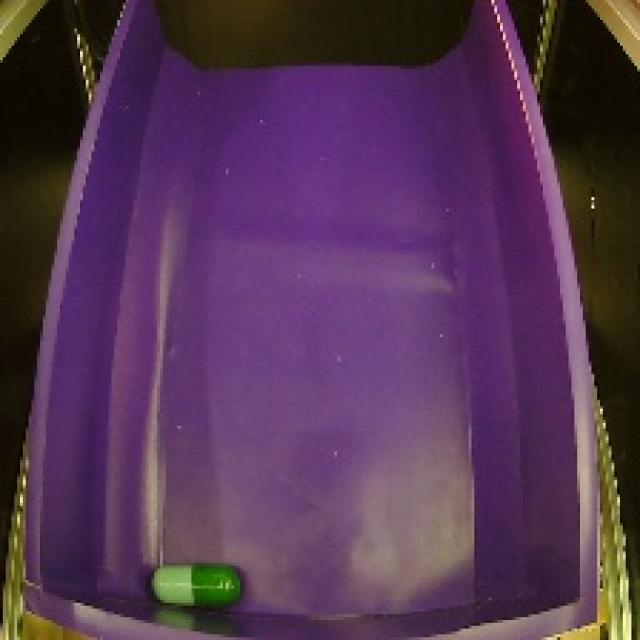small: (140, 557, 247, 617)
